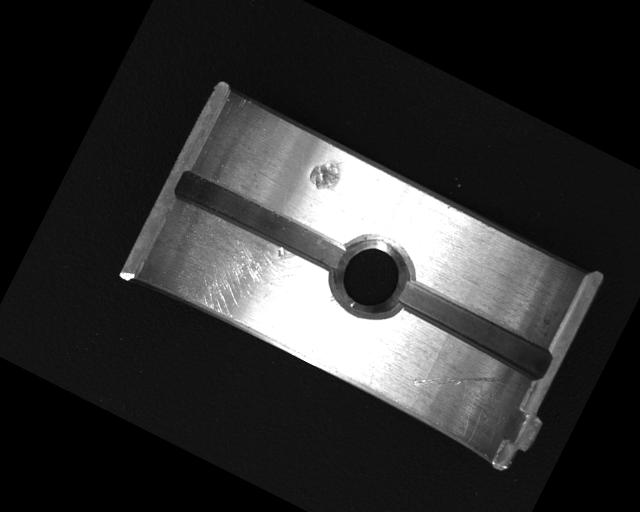bruise: (304, 149, 347, 196)
gap: (171, 165, 354, 281), (394, 277, 556, 381)
hole: (319, 224, 423, 333)
nick: (408, 341, 503, 421)
scratch: (144, 199, 332, 357)
